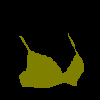reggiseno: (19, 32, 84, 88)
